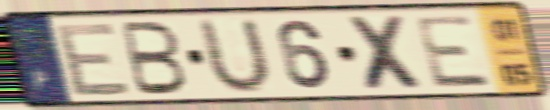6: (275, 17, 335, 92)
B: (118, 19, 191, 98)
E: (412, 12, 496, 90), (54, 20, 136, 99)
U: (196, 15, 274, 97)
X: (342, 13, 433, 93)
